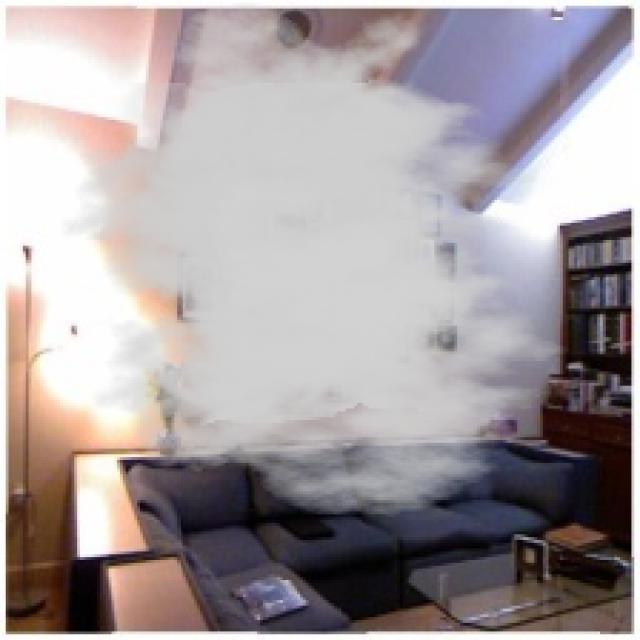smoke: (51, 0, 592, 517)
